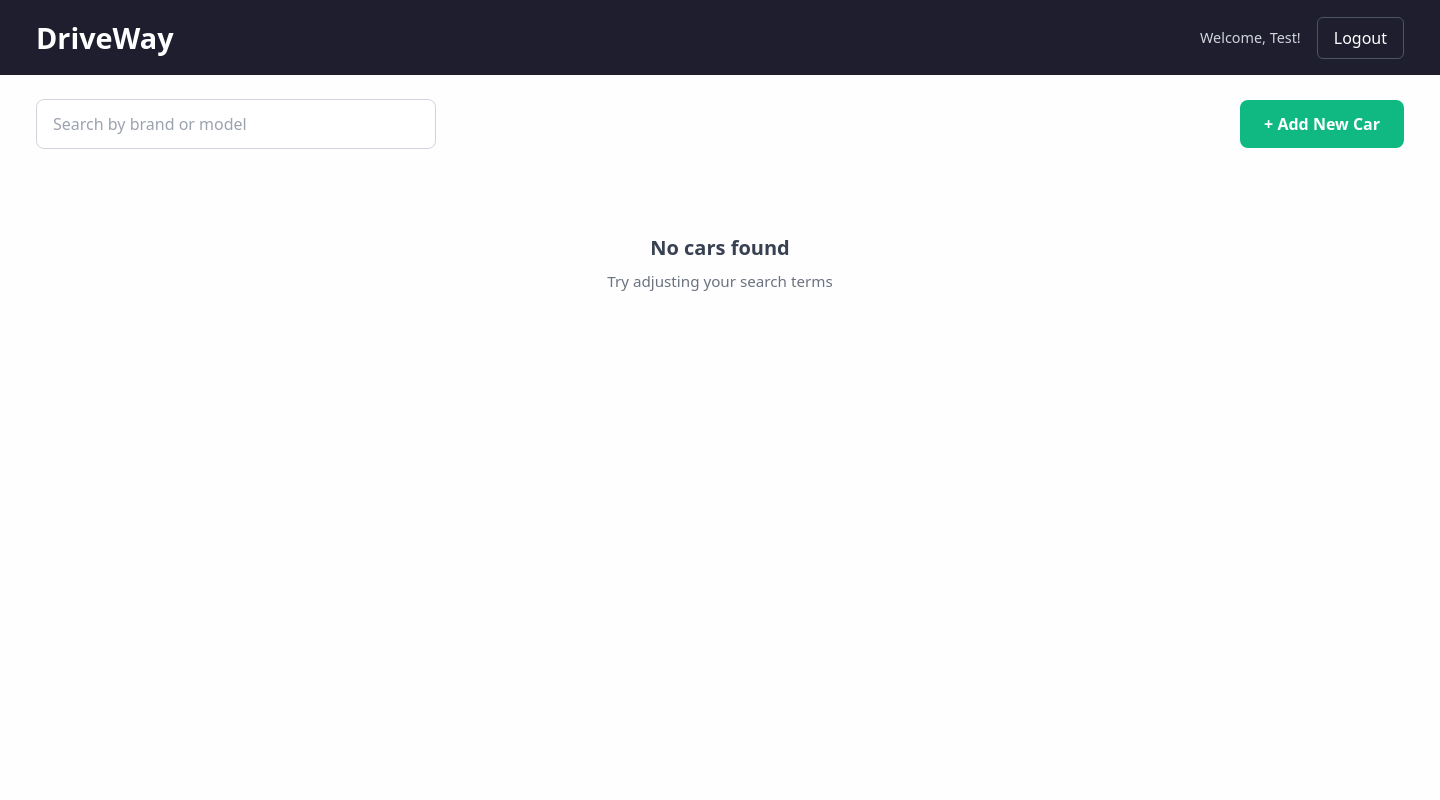
Scenario: DriveWay - Complete User Registration and Car Management Flow › Car Management Flow › should navigate to car creation form
This screenshot has width=1440, height=800.
Click the link "+ Add New Car": (1322, 124) [1240,100,1404,148]
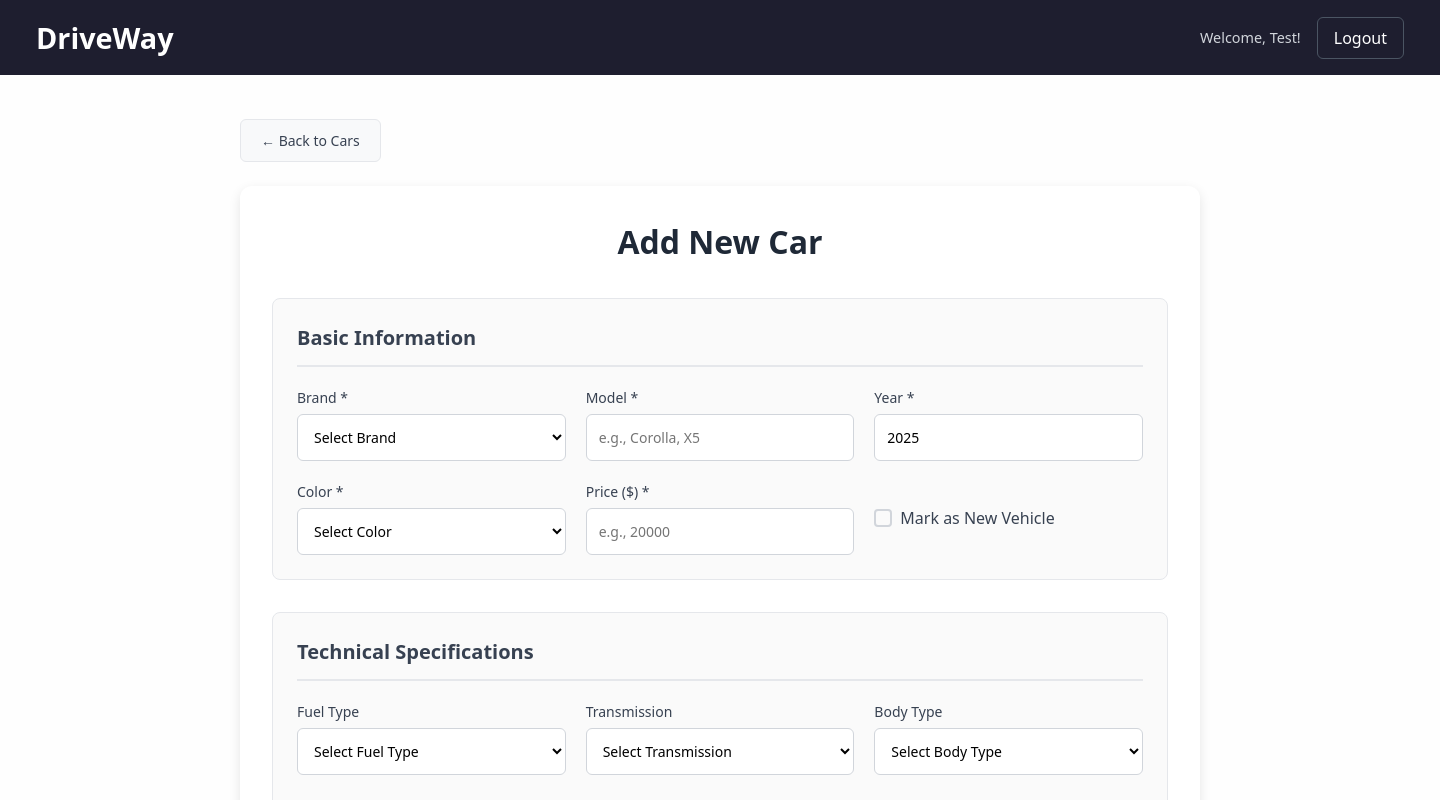
Result: the form is shown at [272,298,1168,799]
Result: the dropdown with id "brand" is shown at [297,414,566,461]
Result: the field with id "model" is shown at [586,414,855,461]
